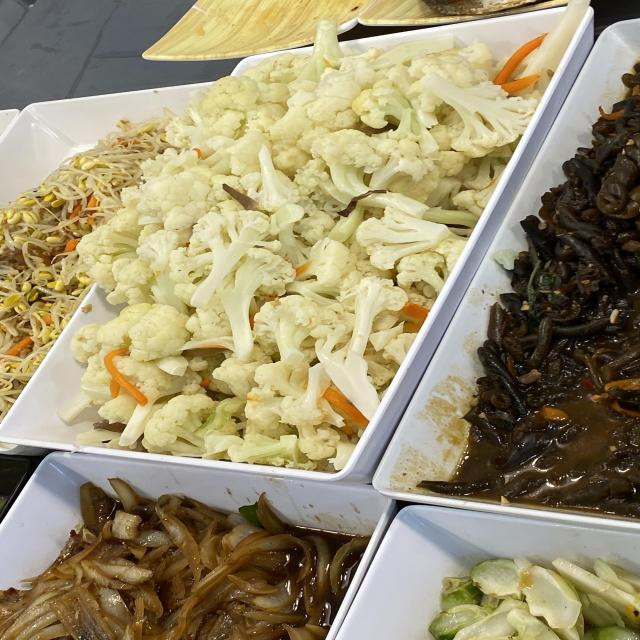cauliflower: (166, 151, 395, 369)
